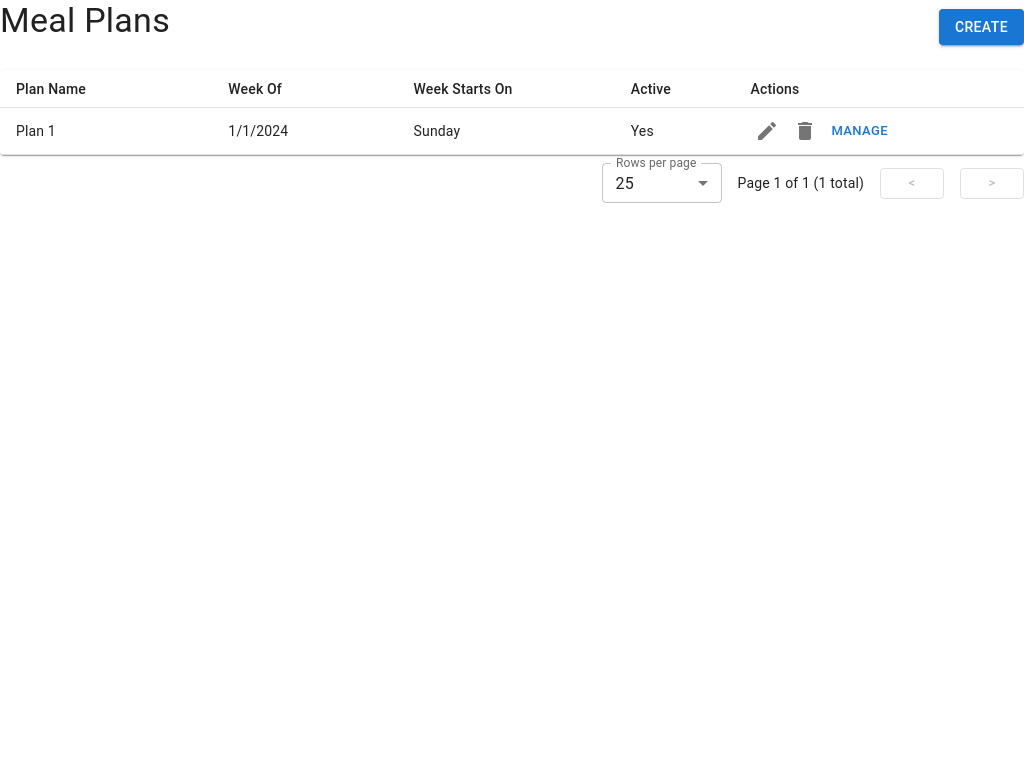
Scenario: meal plans page › keeps the dialog open and shows the error when save fails
Expected: the text "Plan 1" is shown, [16,123,56,139]
Click the button "Create". click: [981, 27]
box: [939,9,1023,45]
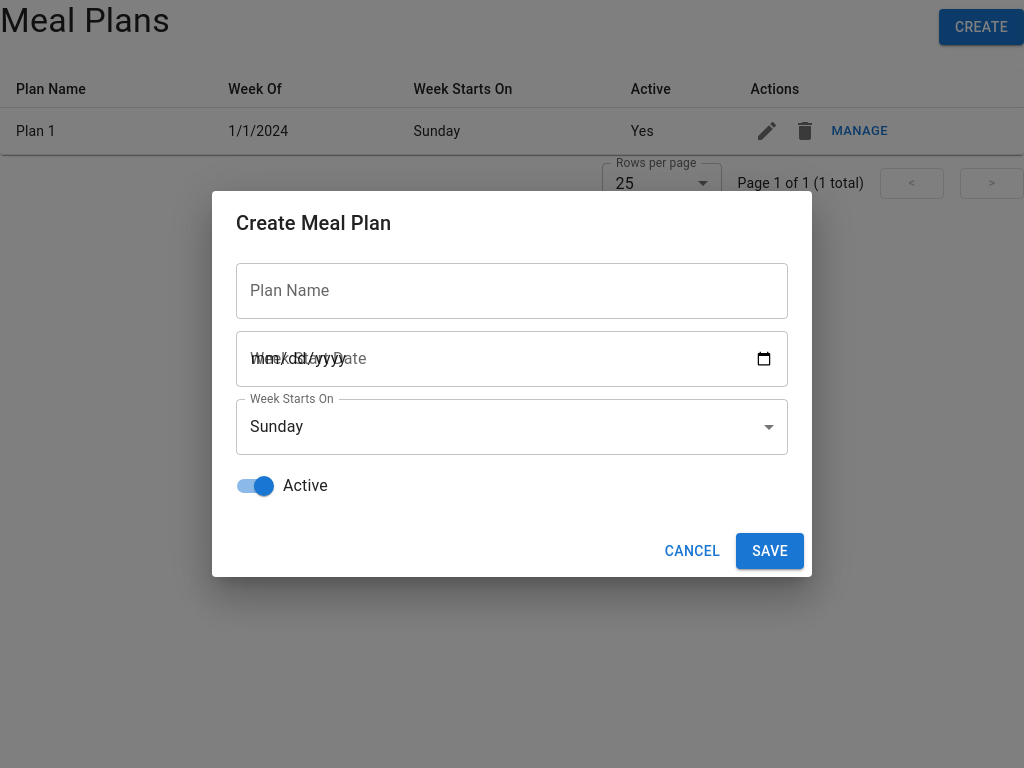
Click the button "Save". click: [770, 551]
box: [736,533,804,569]
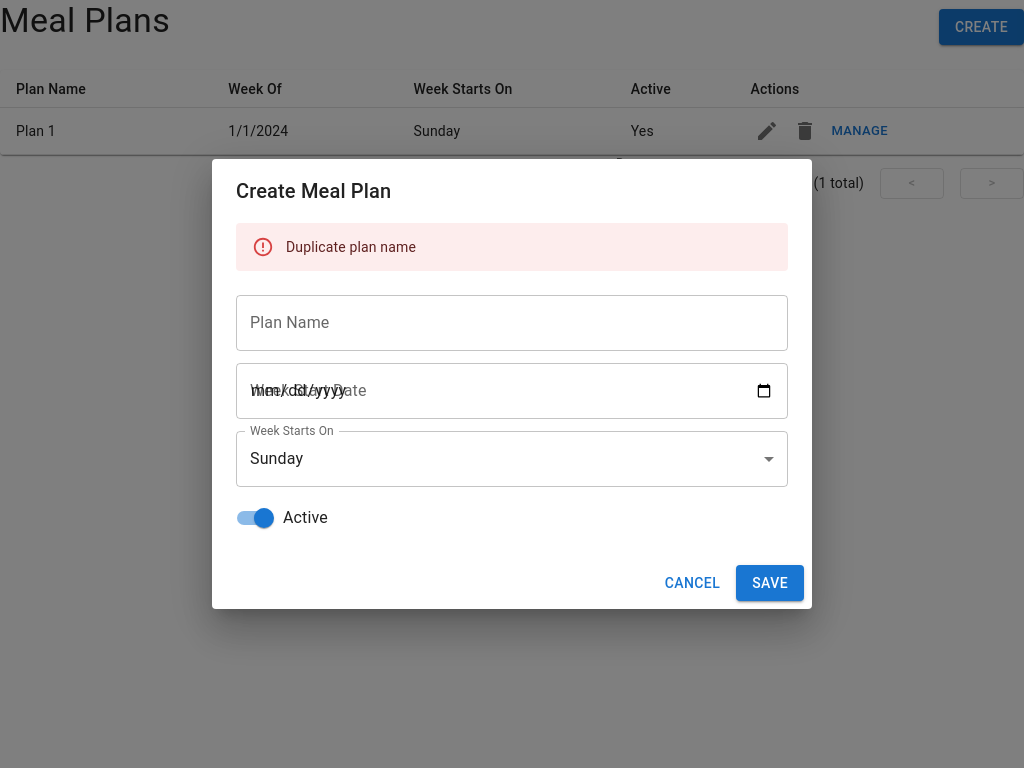
Result: the dialog is shown at [212,159,812,609]
Result: the text "Duplicate plan name" is shown at [286,239,416,255]
